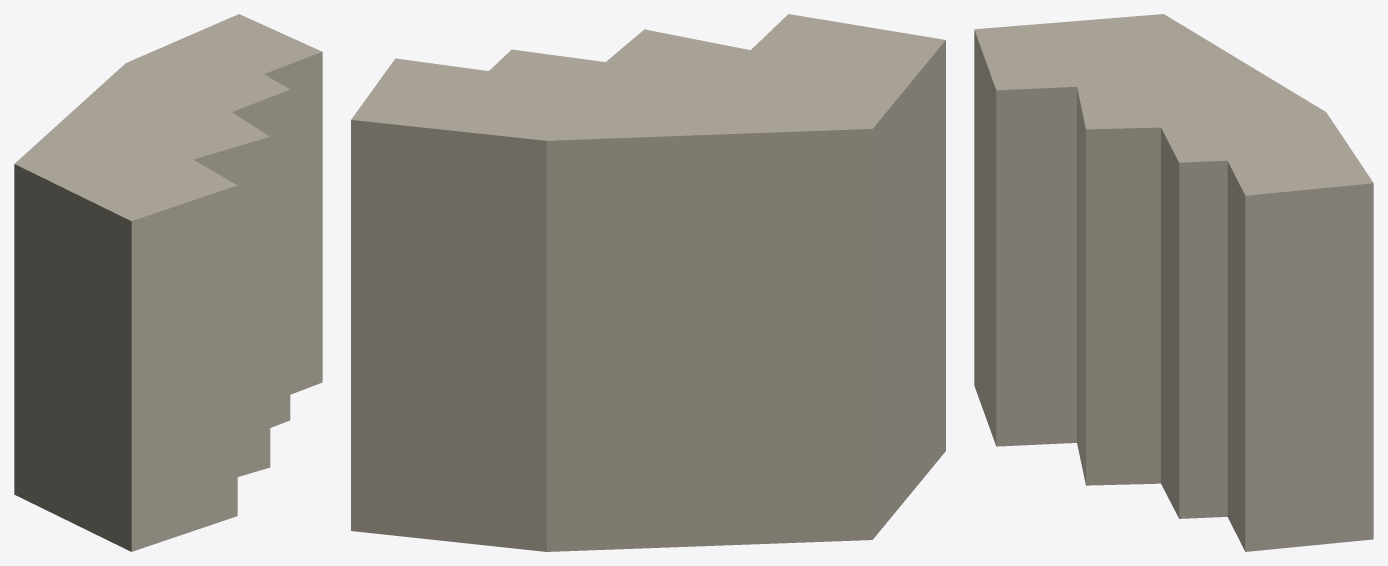
Rendered from birgu_61_26_collision.glb.
3 views of the same model, side by side, from view 1: azimuth 30°, elevation 25°; view 2: azimuth 150°, elevation 25°; view 3: azimuth 270°, elevation 25° (orthographic). The views are drawn at different scales.
Visible parts, largest first — view 1: geometry_0; view 2: geometry_0; view 3: geometry_0.
Boxes of the visible parts, x1,y1,x2,y2 form: geometry_0: (14,14,322,551); geometry_0: (351,14,945,551); geometry_0: (974,14,1373,551).
Size of the model in its own units: 13.61 by 12.44 by 12.64.
